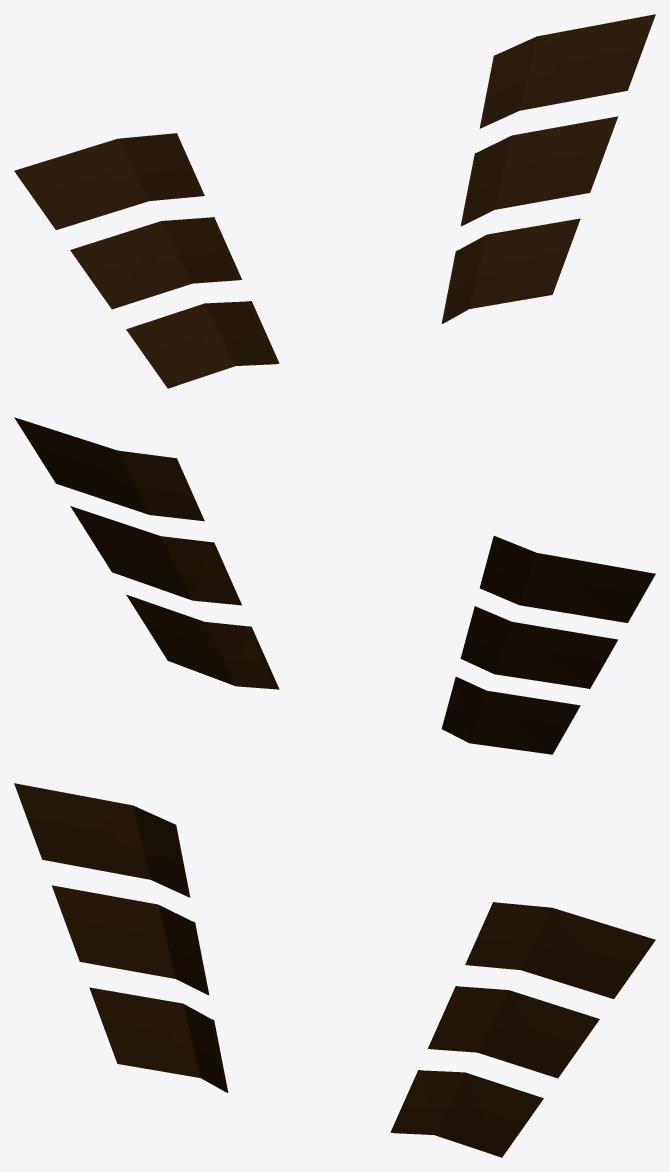
The model's file is MilkywayChevronLowerLightBack.obj.
3 views of the same model, one above another, from view 1: azimuth 30°, elevation 25°; view 2: azimuth 150°, elevation 25°; view 3: azimuth 330°, elevation 25° (orthographic).
Parts seen in each view (by area): view 1: LowerChevronLightsBack; view 2: LowerChevronLightsBack; view 3: LowerChevronLightsBack.
Boxes of the visible parts, bbox=[...] form: LowerChevronLightsBack: bbox=[14, 14, 655, 388]; LowerChevronLightsBack: bbox=[14, 417, 655, 754]; LowerChevronLightsBack: bbox=[14, 783, 655, 1157].
Bounding box in the file's own units: 0.6434 × 0.223 × 0.0577.
Materials: 1 (1 with a texture image).
